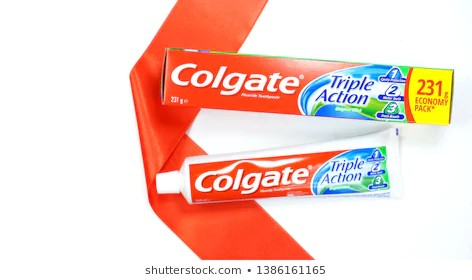colgate-medium: (159, 42, 456, 128)
